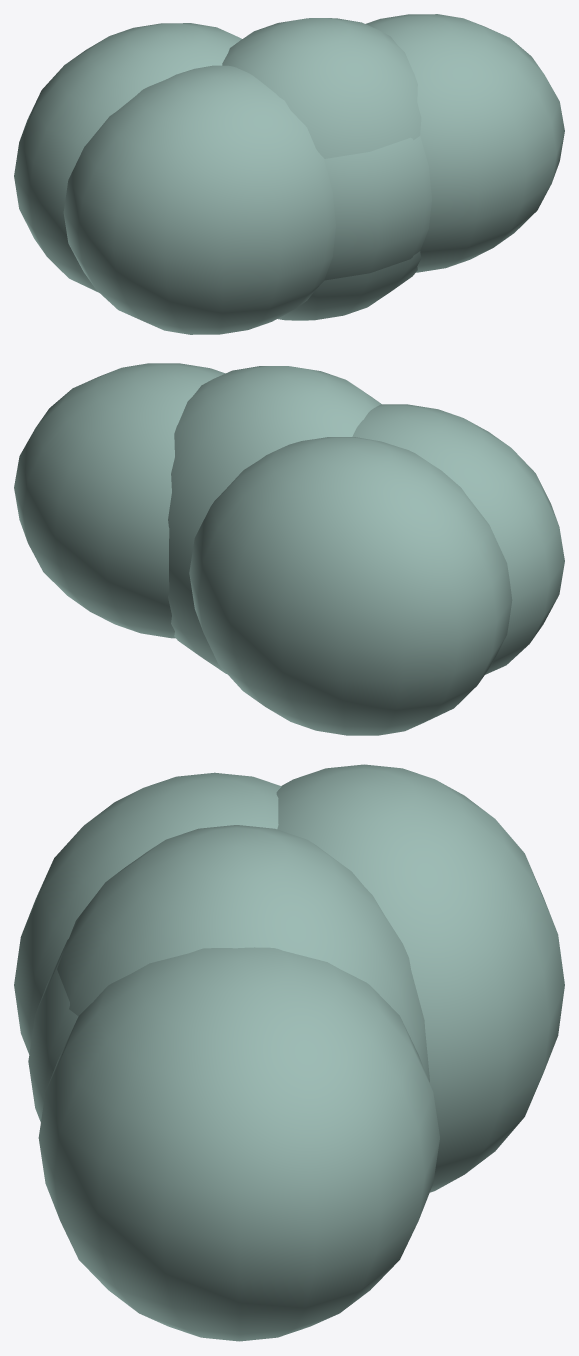
File: rock.glb
The picture shows the model from 3 angles, top to bottom: view 1: azimuth 30°, elevation 25°; view 2: azimuth 150°, elevation 25°; view 3: azimuth 270°, elevation 25°; orthographic projection. The views are drawn at different scales.
Visible parts, largest first — view 1: Reef_Rock.003, Reef_Rock.002, Reef_Rock.001, Reef_Rock, Reef_Rock.004; view 2: Reef_Rock, Reef_Rock.002, Reef_Rock.001, Reef_Rock.003; view 3: Reef_Rock.002, Reef_Rock, Reef_Rock.001, Reef_Rock.003, Reef_Rock.004.
Part boxes in pixels (left/top/right/bottom): Reef_Rock.003: left=63, top=65, right=335, bottom=334; Reef_Rock.002: left=366, top=14, right=564, bottom=272; Reef_Rock.001: left=222, top=18, right=421, bottom=320; Reef_Rock: left=14, top=23, right=241, bottom=292; Reef_Rock.004: left=324, top=136, right=431, bottom=280; Reef_Rock: left=189, top=437, right=512, bottom=735; Reef_Rock.002: left=14, top=363, right=225, bottom=638; Reef_Rock.001: left=168, top=366, right=381, bottom=673; Reef_Rock.003: left=352, top=404, right=564, bottom=674; Reef_Rock.002: left=38, top=947, right=439, bottom=1341; Reef_Rock: left=276, top=764, right=564, bottom=1192; Reef_Rock.001: left=57, top=825, right=429, bottom=1082; Reef_Rock.003: left=14, top=772, right=281, bottom=1054; Reef_Rock.004: left=28, top=939, right=78, bottom=1122.
Bounding box in the file's own units: 2.1 × 1.18 × 1.37.
